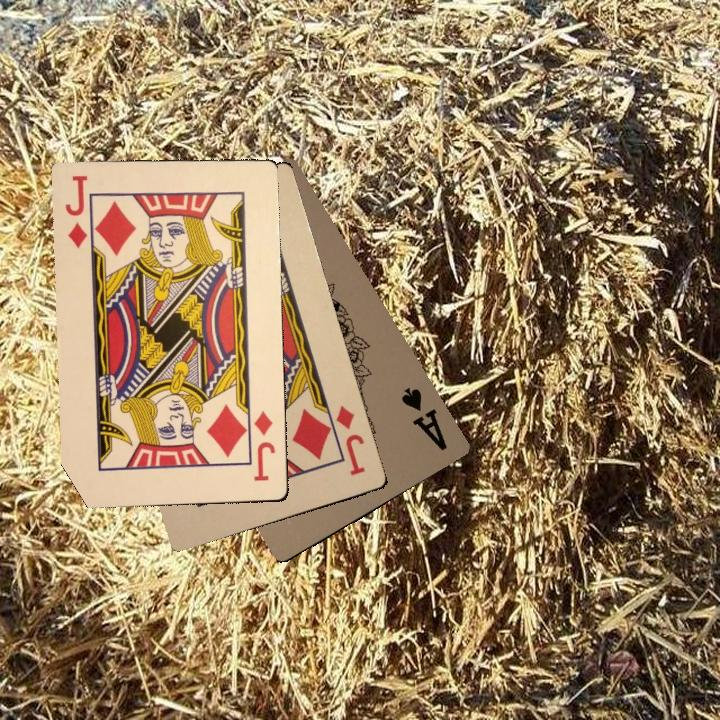As: (396, 384, 450, 454)
Jd: (61, 171, 97, 254), (331, 402, 368, 479), (250, 408, 278, 484)
